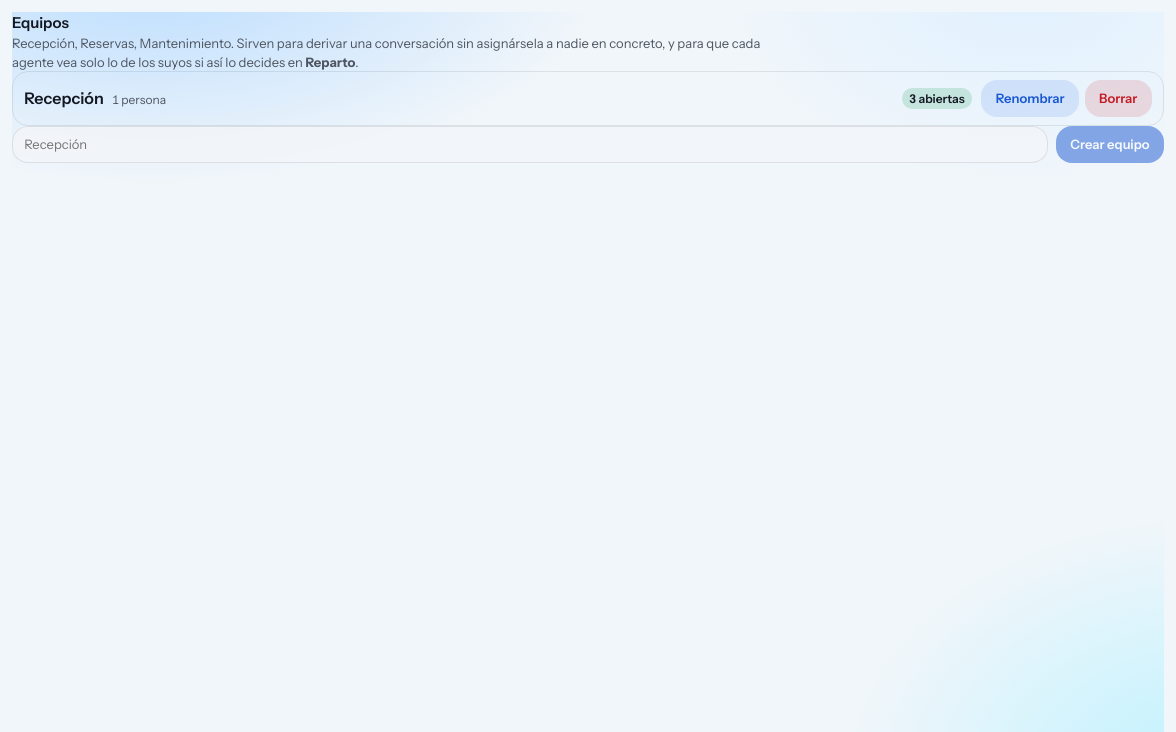
Test case: Equipos › desplegar enseña a quién se puede meter, y quién ya está
Step 1. Click the button "Recepción 1 persona" → [64, 98], box [24,87,892,110]
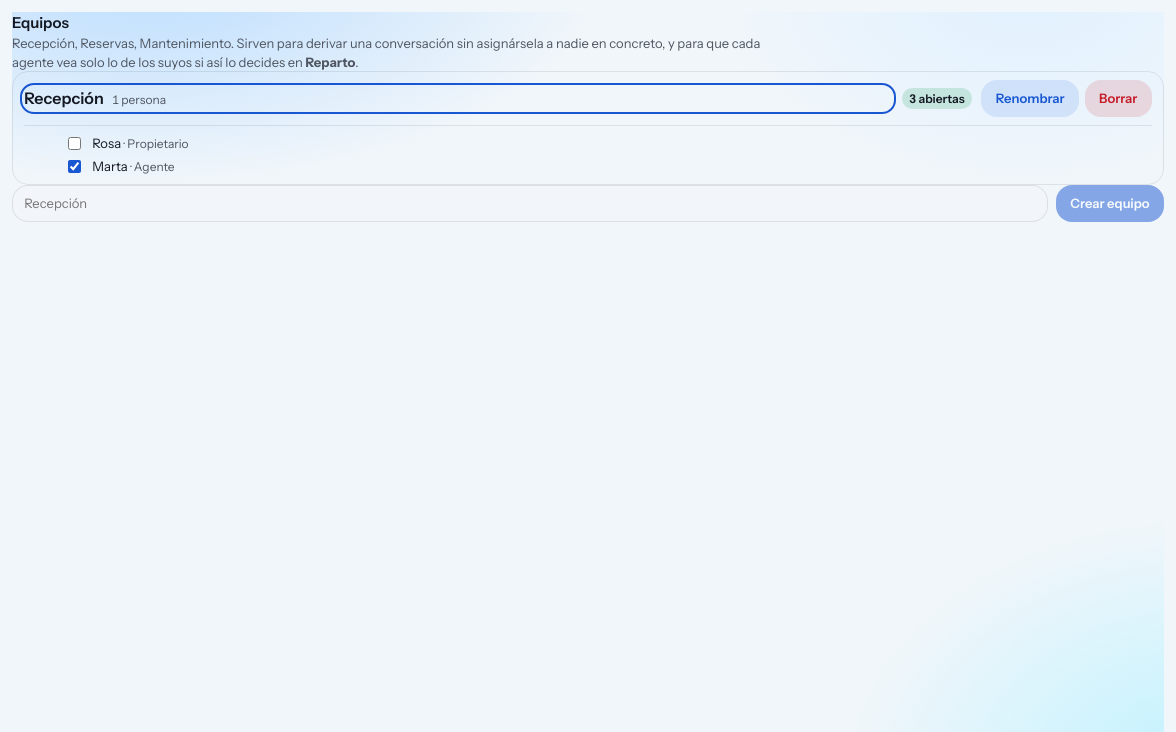
Check: the checkbox labelled "Marta · Agente" is checked, box [68,160,81,173]
Check: the checkbox labelled "Rosa · Propietario" is not checked, box [68,137,81,150]
